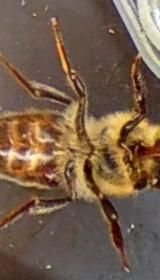varroa_mite: (36, 160, 67, 187)
